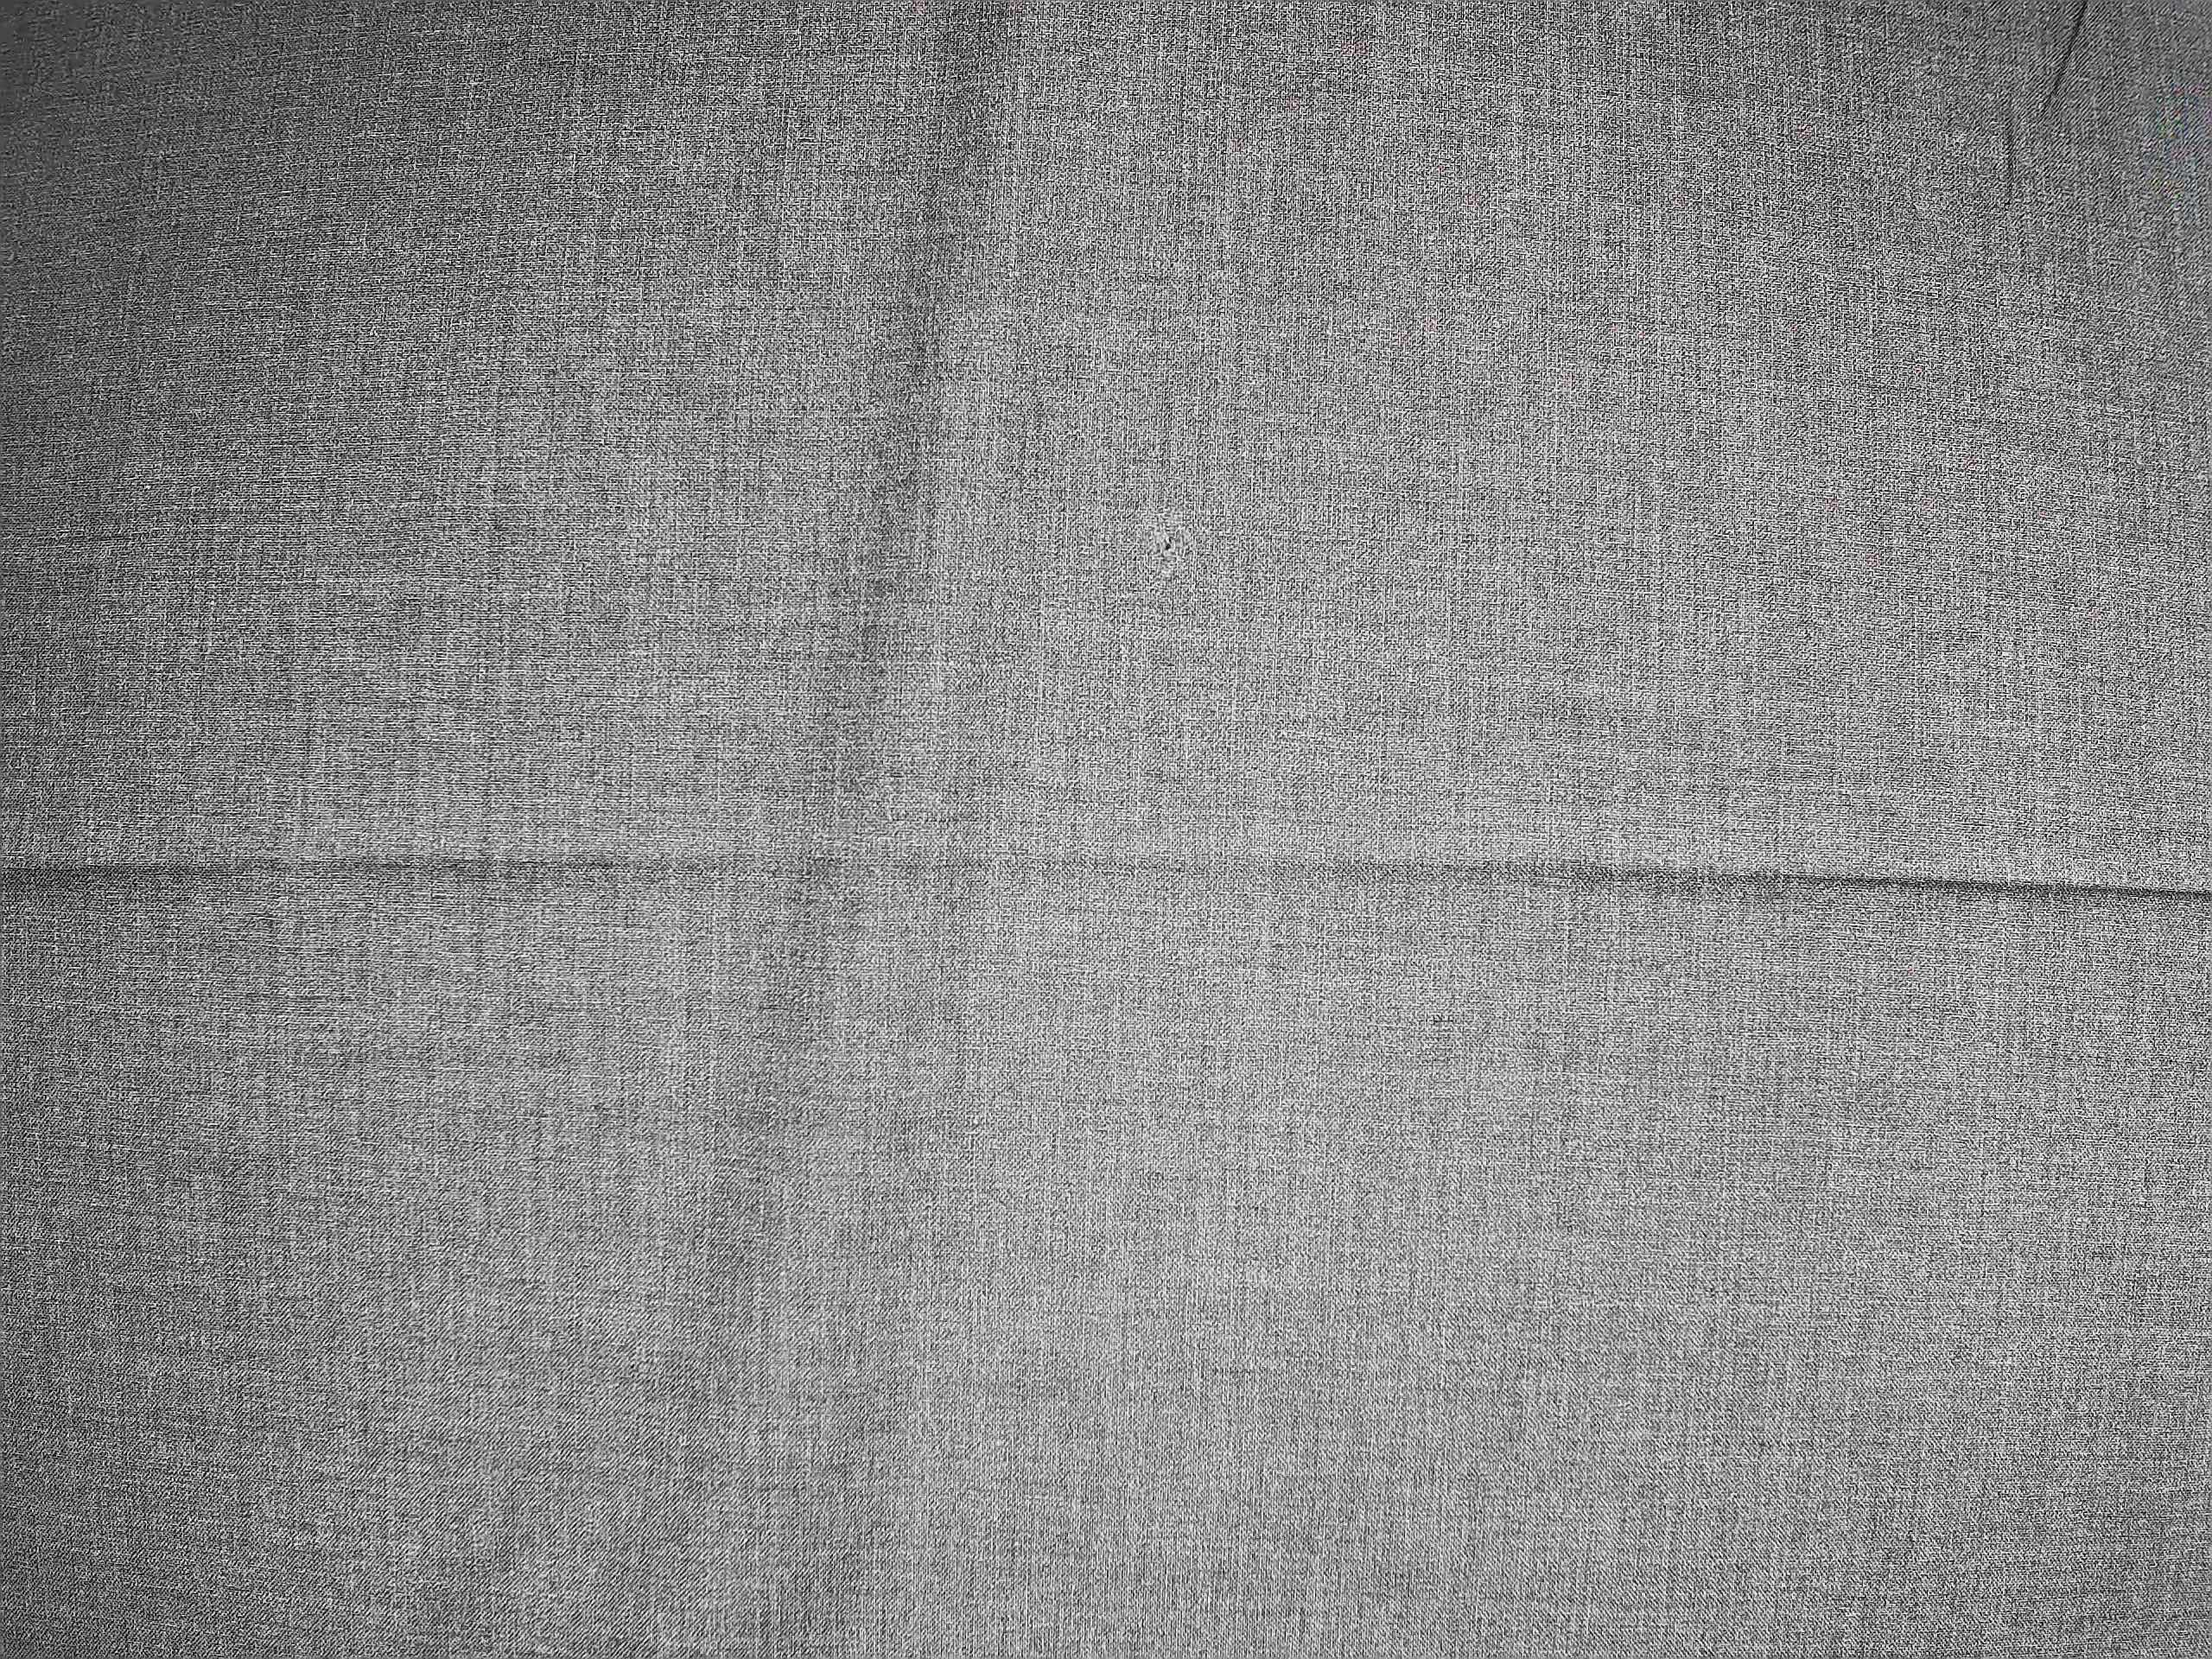rubbing-hole: (1143, 507, 1205, 579)
